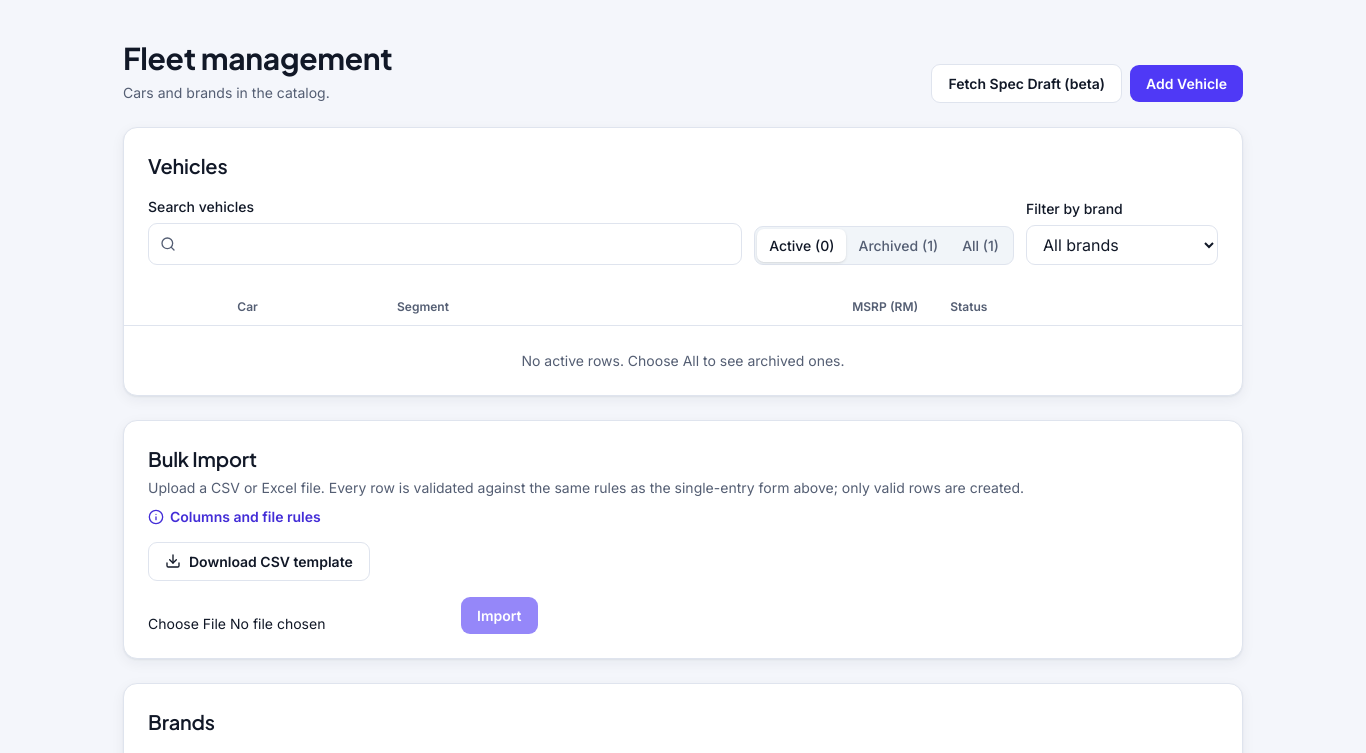
Test: AdminFleetPage › reactivates an archived vehicle from its own row
Click the button "All (1)" at (981, 245), box [950,228,1011,262]
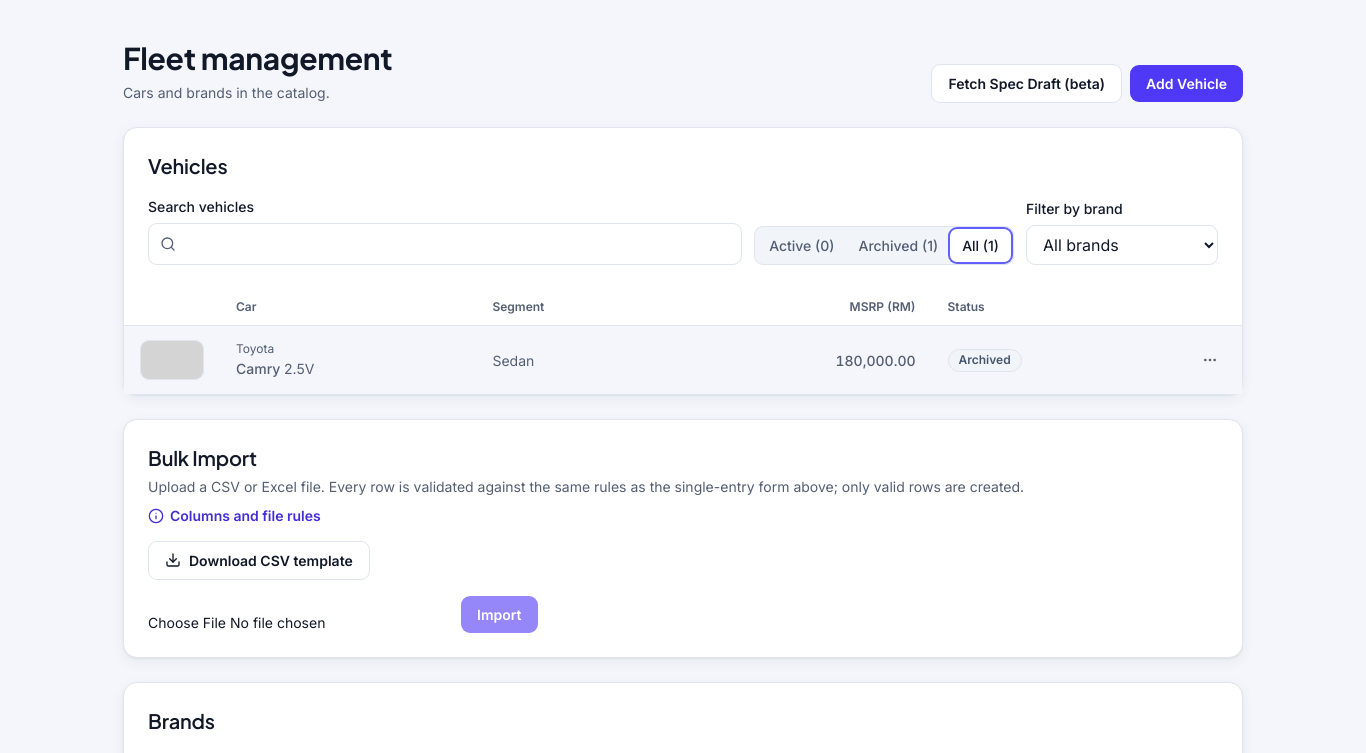
Click the button named "Actions for Toyota Camry 2.5V" at (1210, 360), box [1194,344,1226,376]
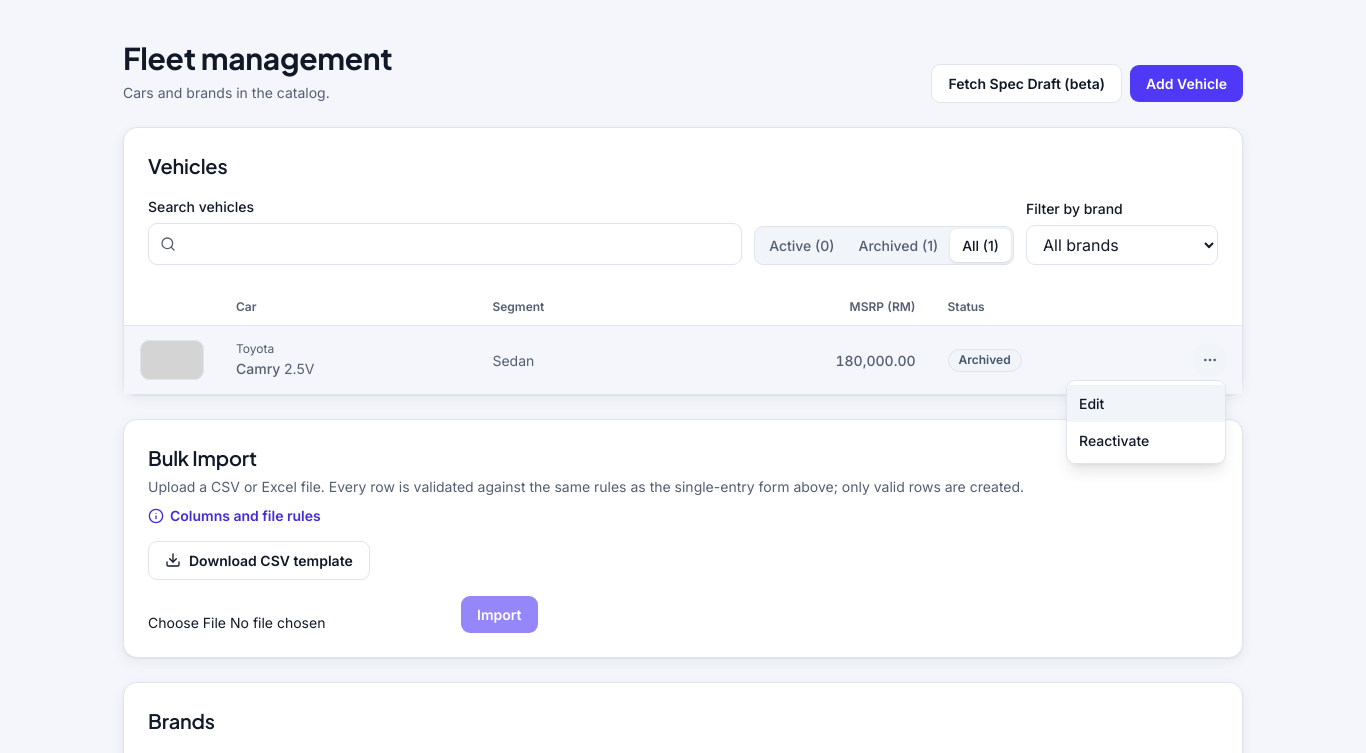
Click the menu item "Reactivate" at (1146, 441), box [1067,422,1225,459]
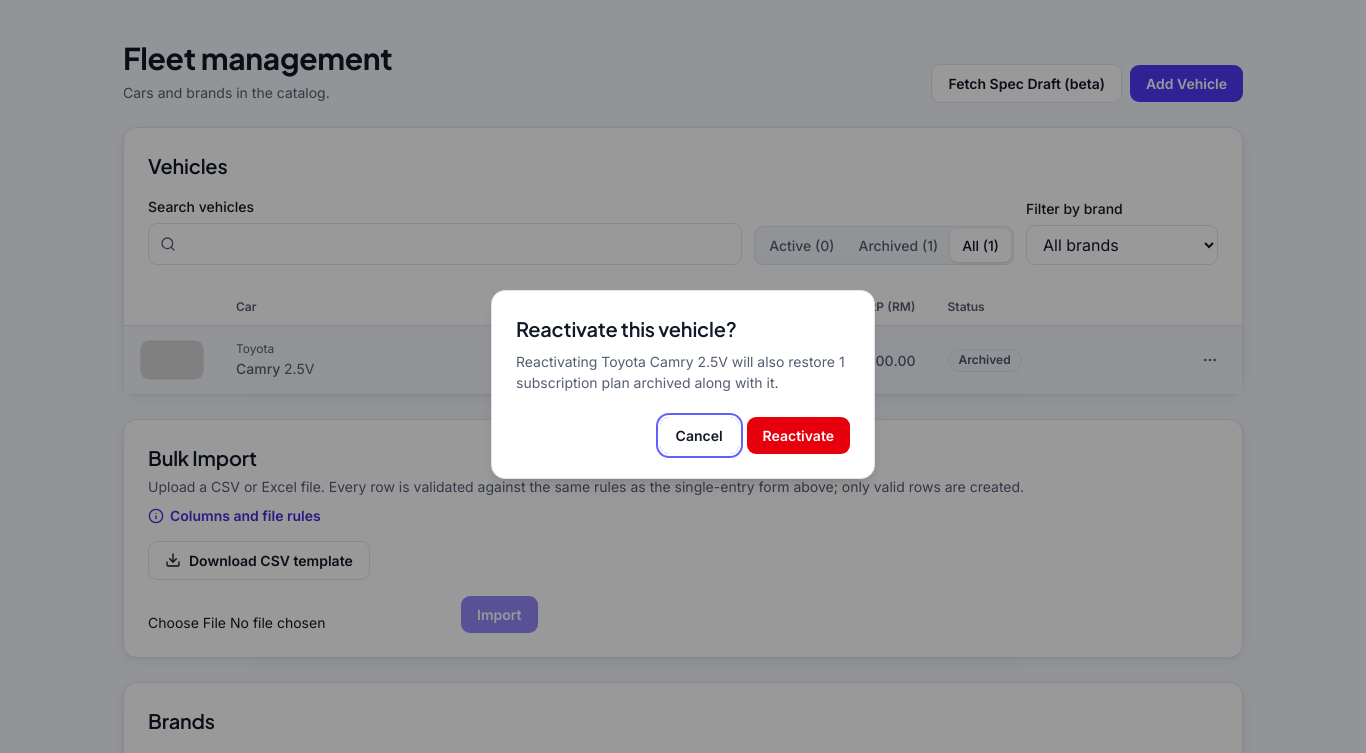
Now the text "Reactivating Toyota Camry 2.5V will also restore 1 subscription plan archived along with it." is shown, box [516,352,845,390]
Click the button "Reactivate" at (798, 435), box [747,416,850,454]
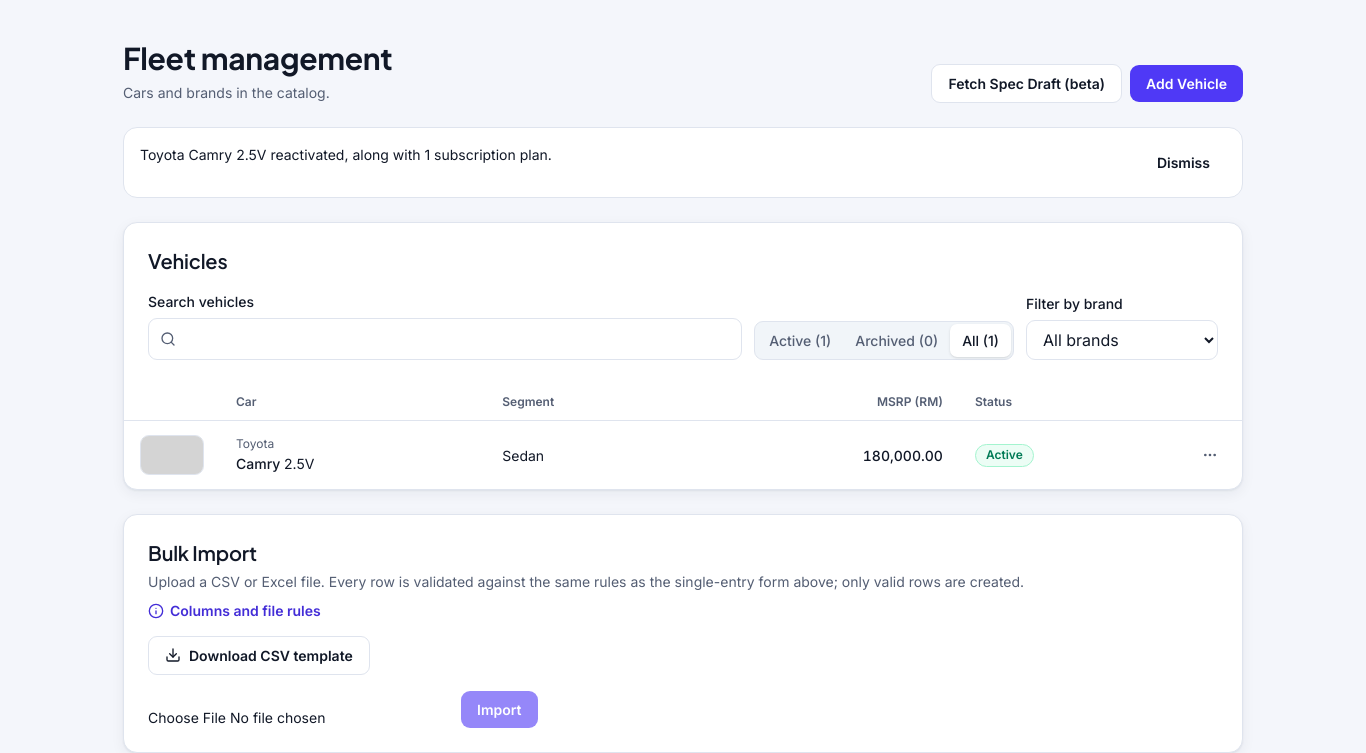
Now the text "Active" is shown, box [975,444,1034,467]
